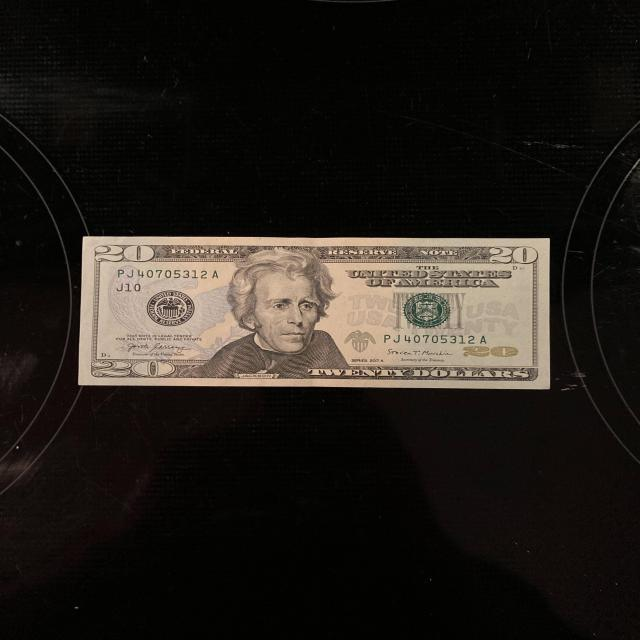twenty: (79, 237, 551, 391)
